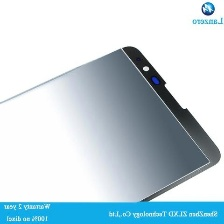phone: (0, 42, 223, 223)
